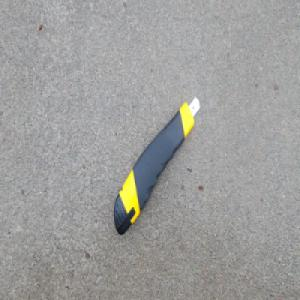Cutter: (113, 94, 201, 236)
